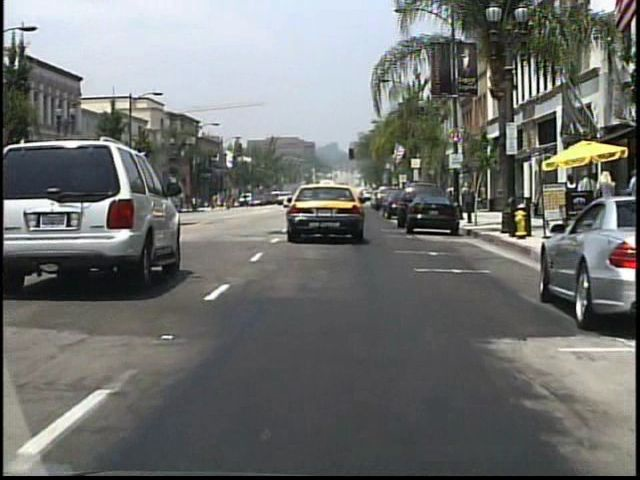person: (575, 169, 599, 226), (597, 169, 619, 226), (559, 171, 578, 227), (242, 193, 250, 209)
